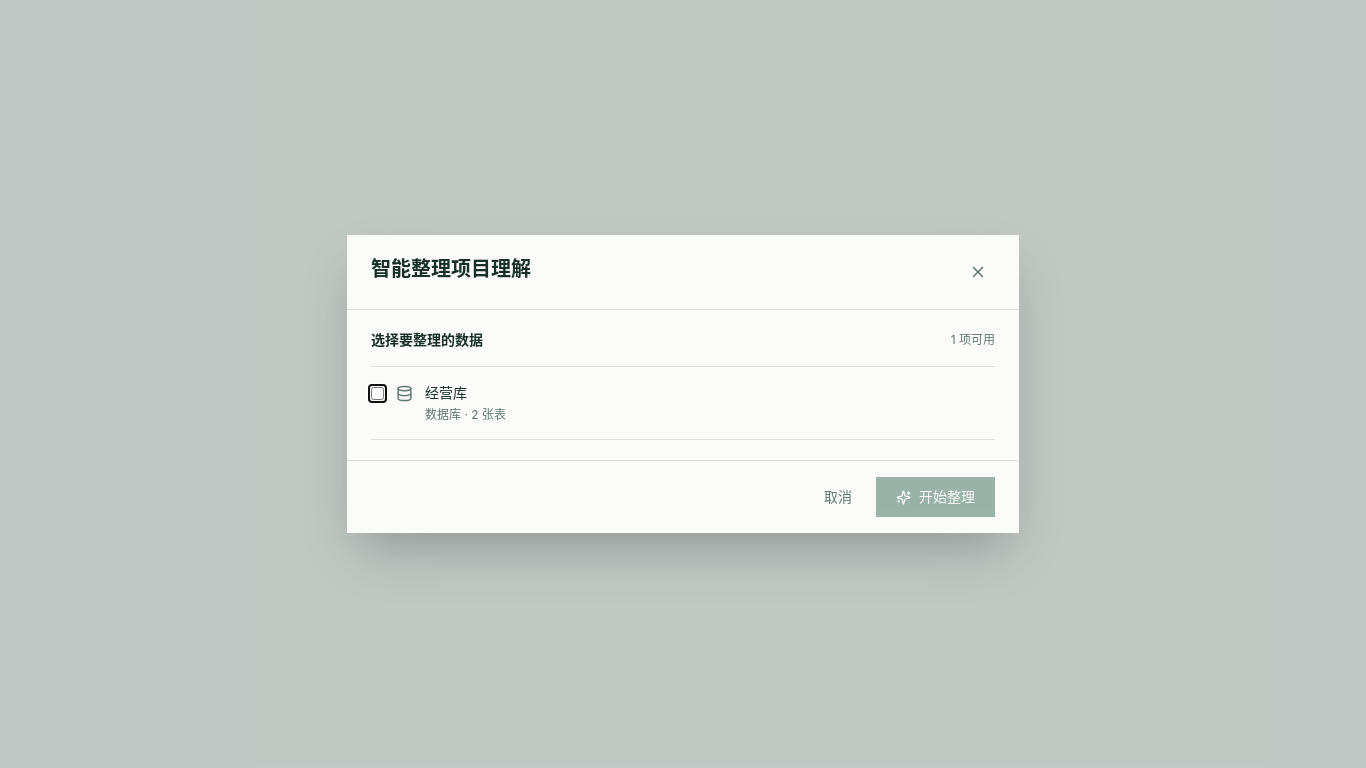
Scenario: SemanticGovernanceDialog › shows a business error when starting table organization returns HTTP 404
Check: the text "数据库 · 2 张表" is shown, box 425,407 -> 506,423
Click the checkbox named "选择数据来源 经营库": (378, 394) 371,387 -> 384,400
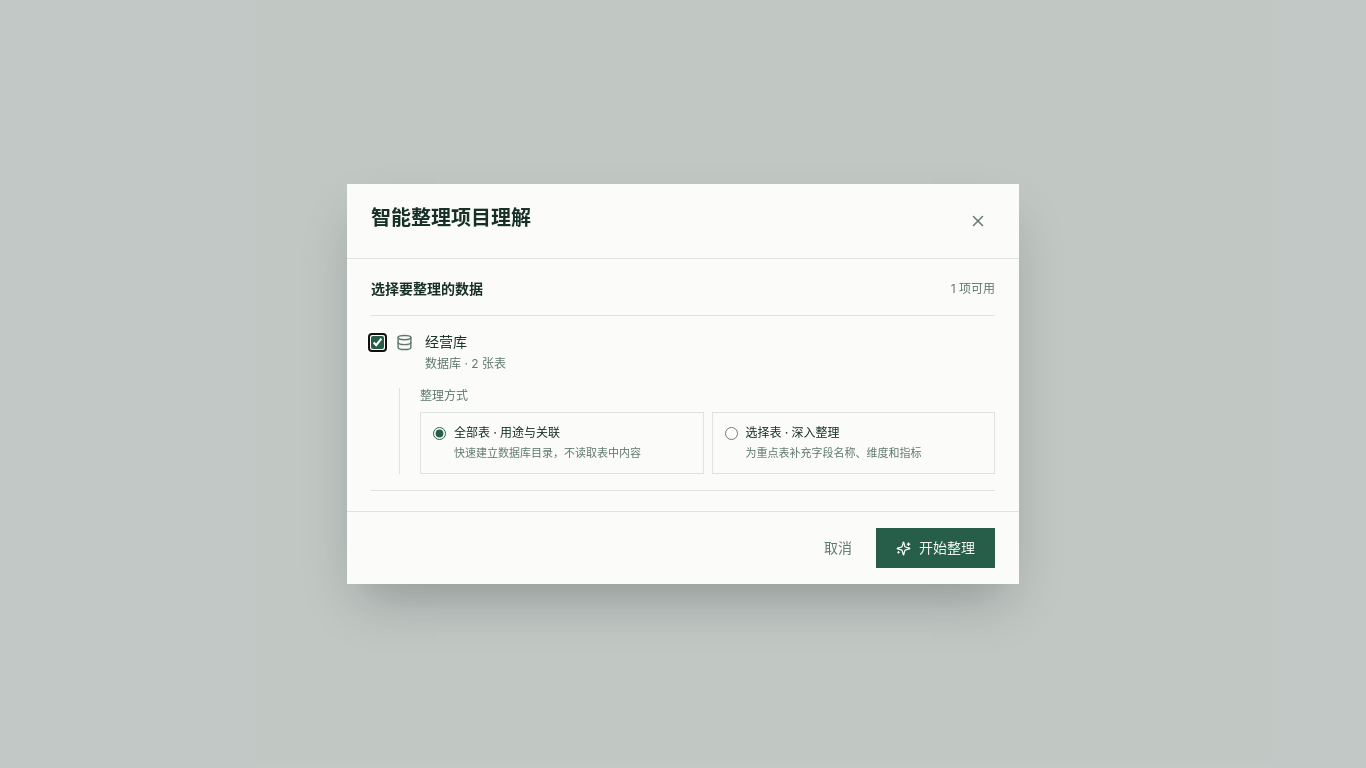
Click the button "开始整理": (936, 548) 876,528 -> 995,568
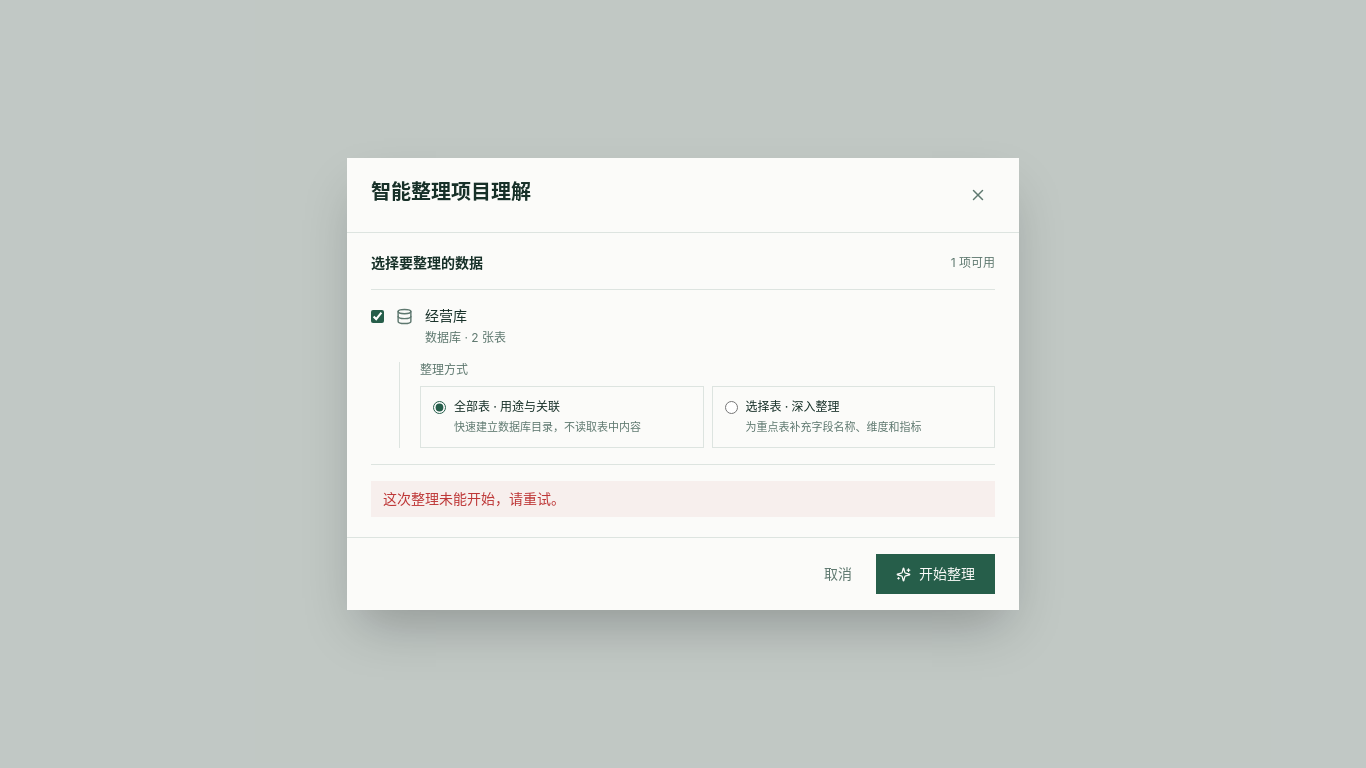
Check: the message reads "这次整理未能开始，请重试。", box 383,490 -> 565,507
